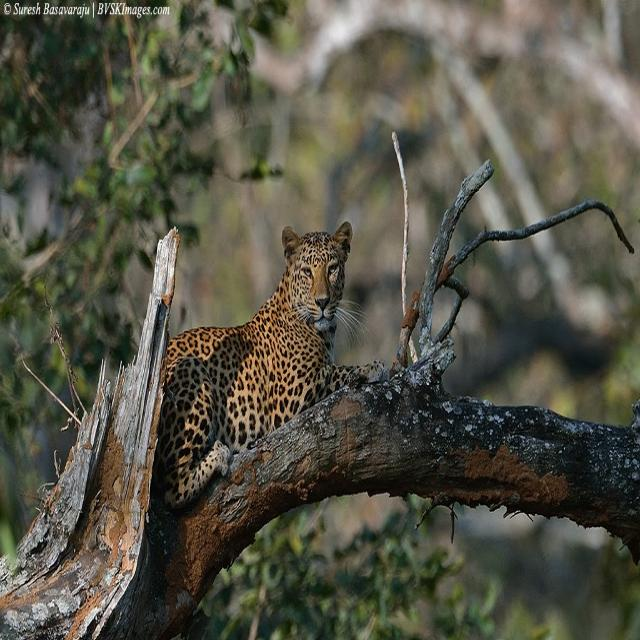Leopard: (143, 221, 353, 512)
